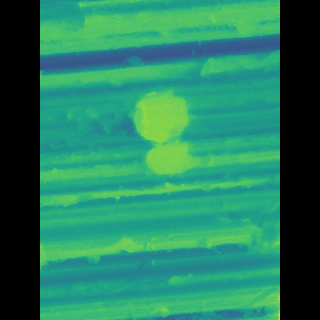Loch: (138, 89, 204, 192), (189, 54, 250, 81)
